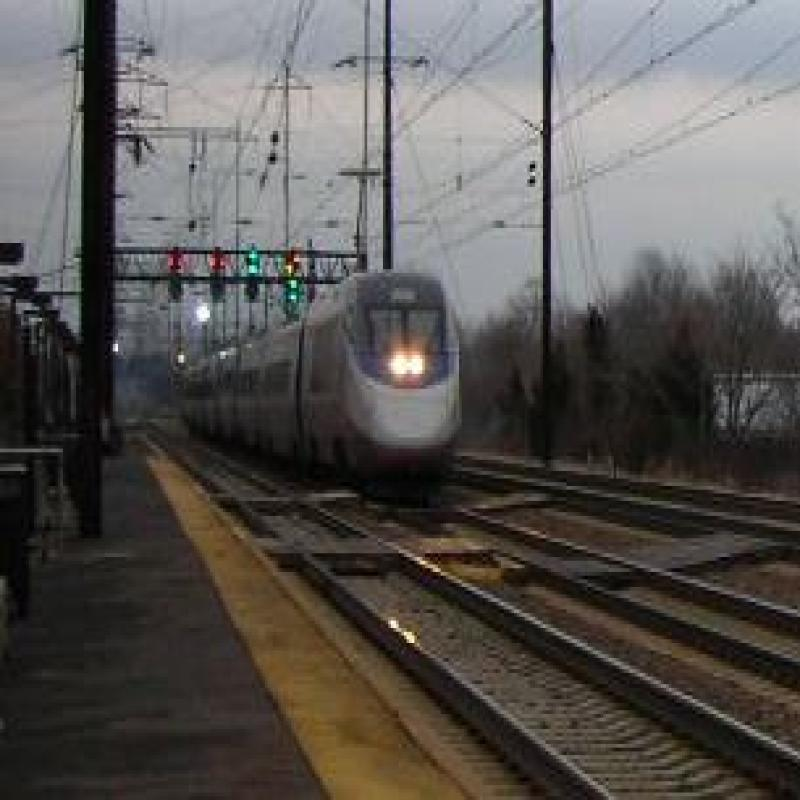train: (174, 274, 468, 476)
